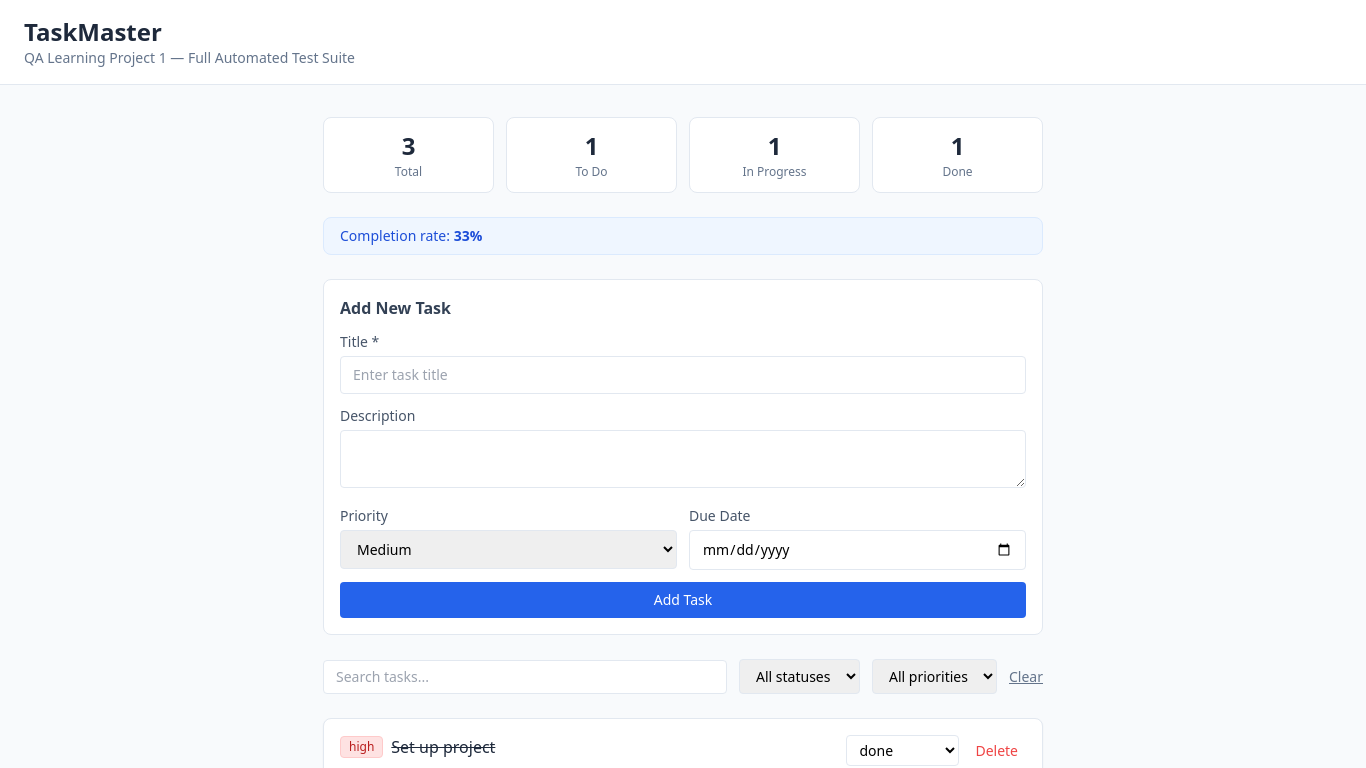
Task management flow › total count increments after adding a task
Expected: the heading "Set up project" is shown, [391,735,495,759]
Step 1. Type "Counter test task" into the field labelled "Title *" → (683, 375), box [340,356,1026,394]
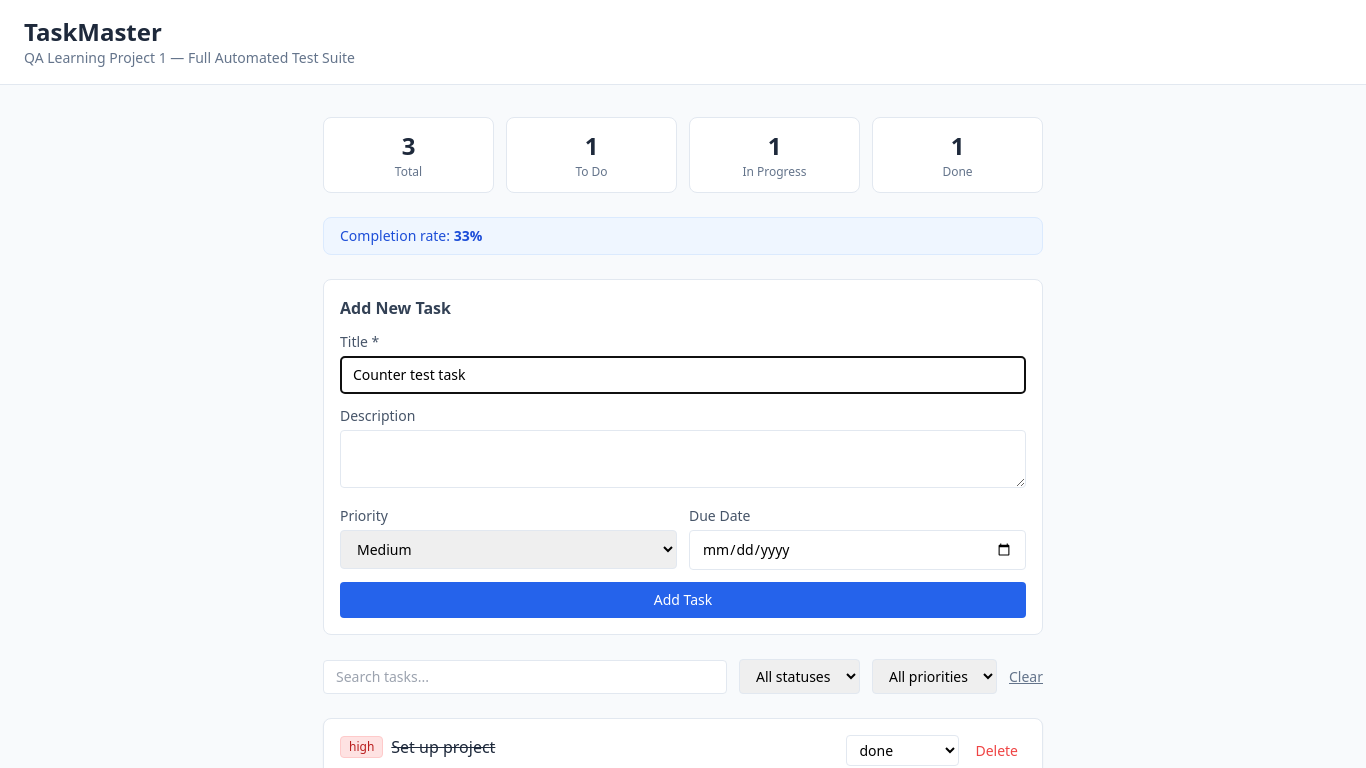
Step 2. Click the button "Add Task" → (683, 600), box [340,582,1026,618]
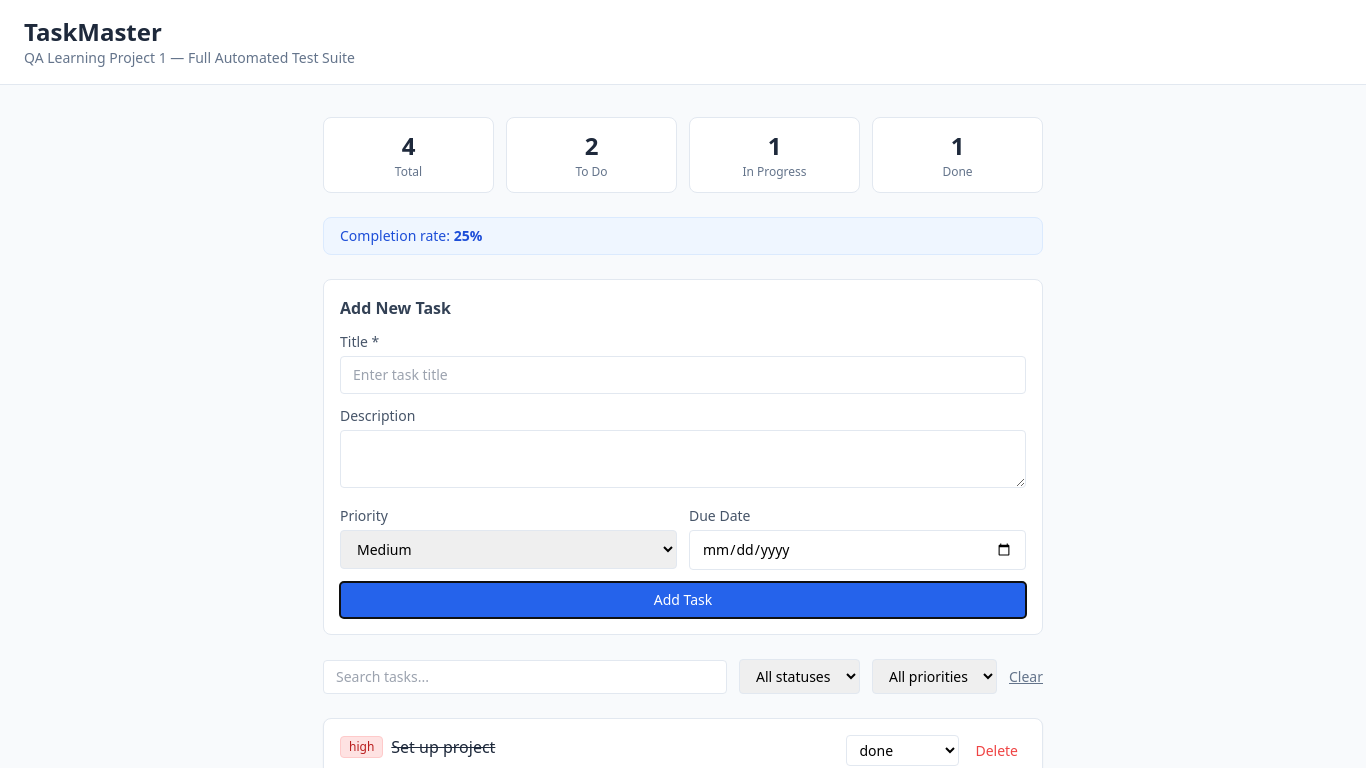
Now the element named "task statistics" shows "4", box [402,129,415,162]
